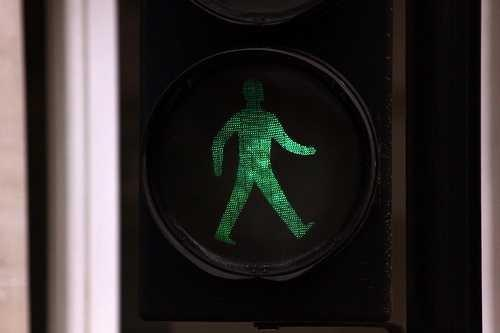green: (173, 58, 362, 267)
